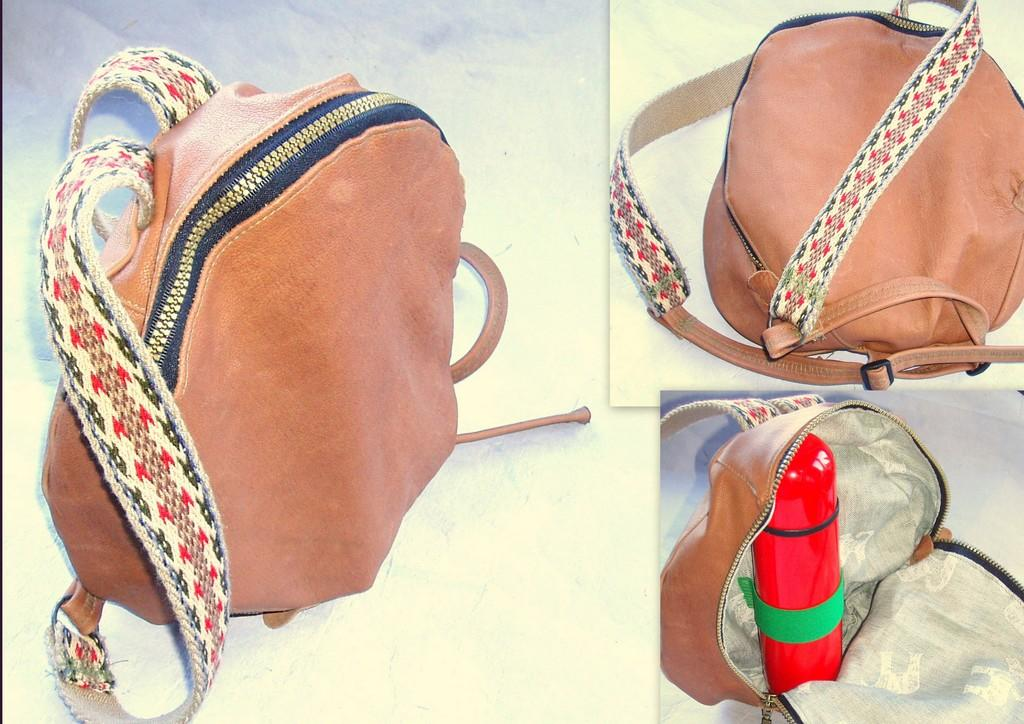Luggage-and-bags: (42, 36, 589, 723), (609, 0, 1023, 389), (659, 392, 1023, 723)
